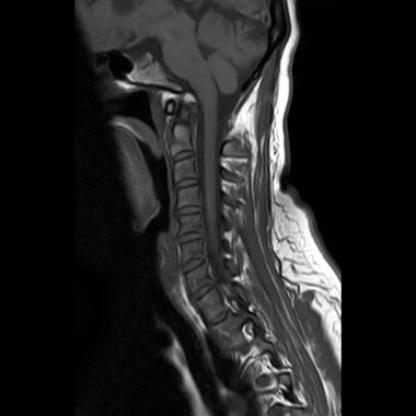Disc Bulgerotation: (180, 255, 208, 273), (176, 230, 205, 246)
Osteophytesrotation: (180, 255, 208, 273), (176, 230, 205, 246)
